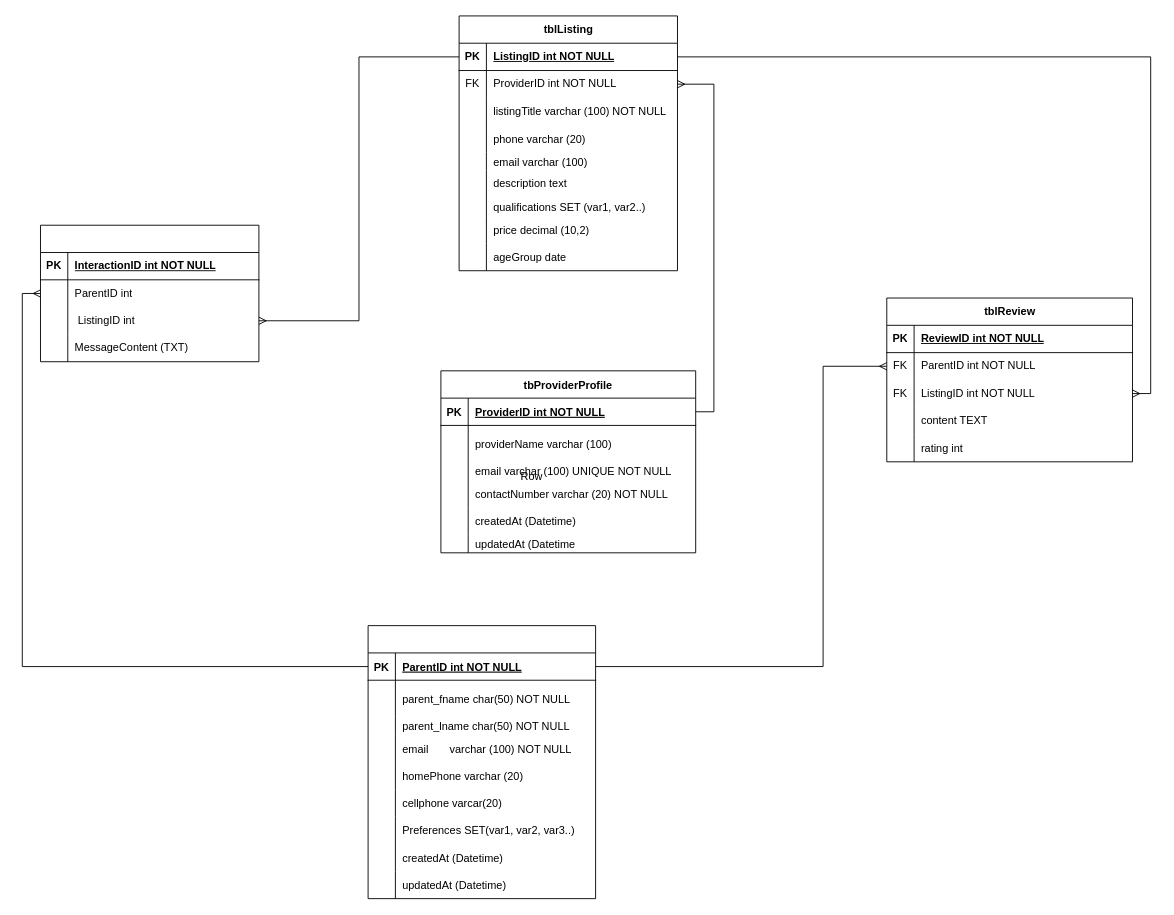
The diagram is 1174 pixels wide and 915 high, and some of its shapes have lost their labels. The box of each missing label's shape, as (x1, y1, x2, y2) in pixels:
tblInteraction: (40, 224, 259, 362)
tblParentProfile: (367, 625, 596, 899)
